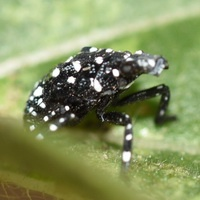insect: (25, 47, 175, 164)
